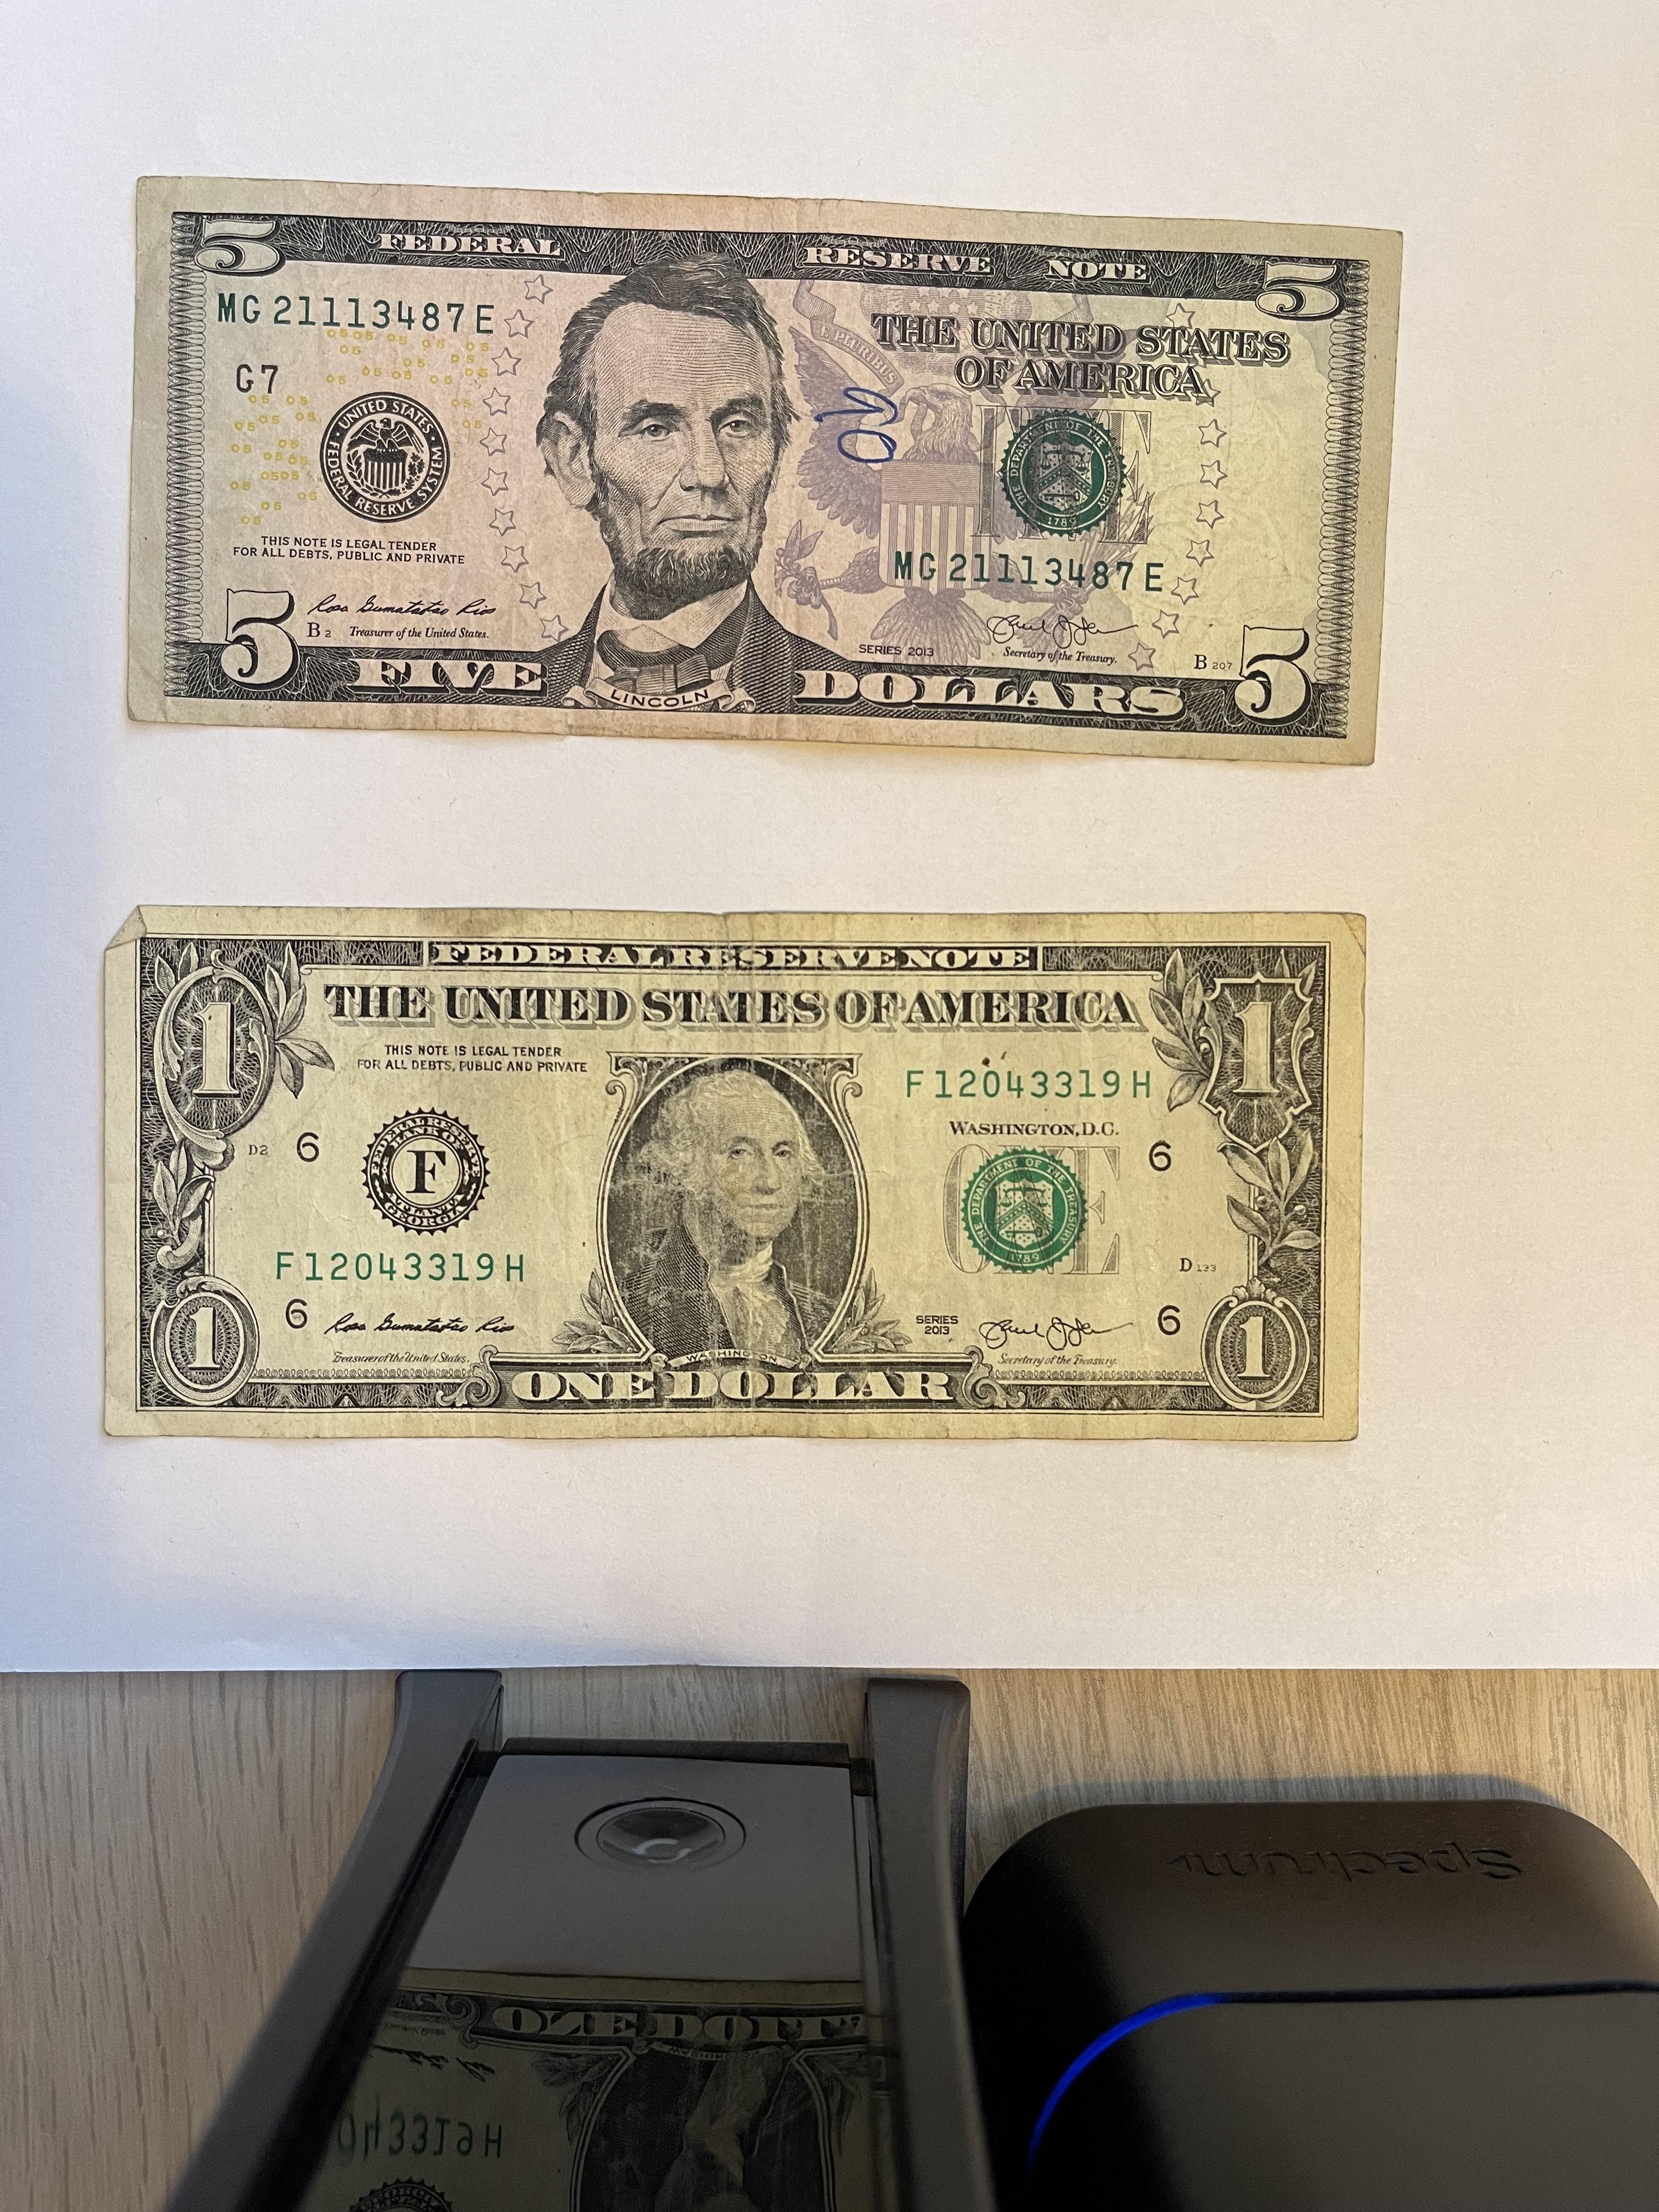FiveBill: (124, 172, 1408, 770)
OneBill: (96, 899, 1366, 1444)
